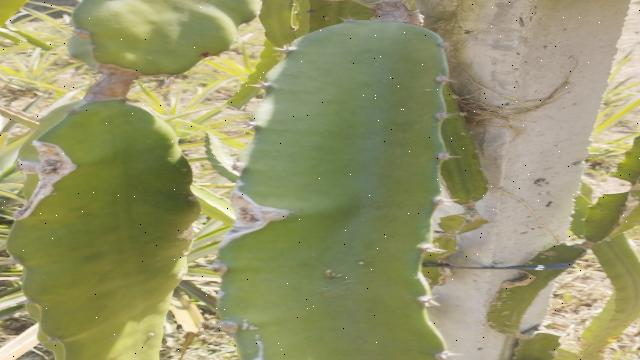stemcanker: (320, 268, 338, 283)
